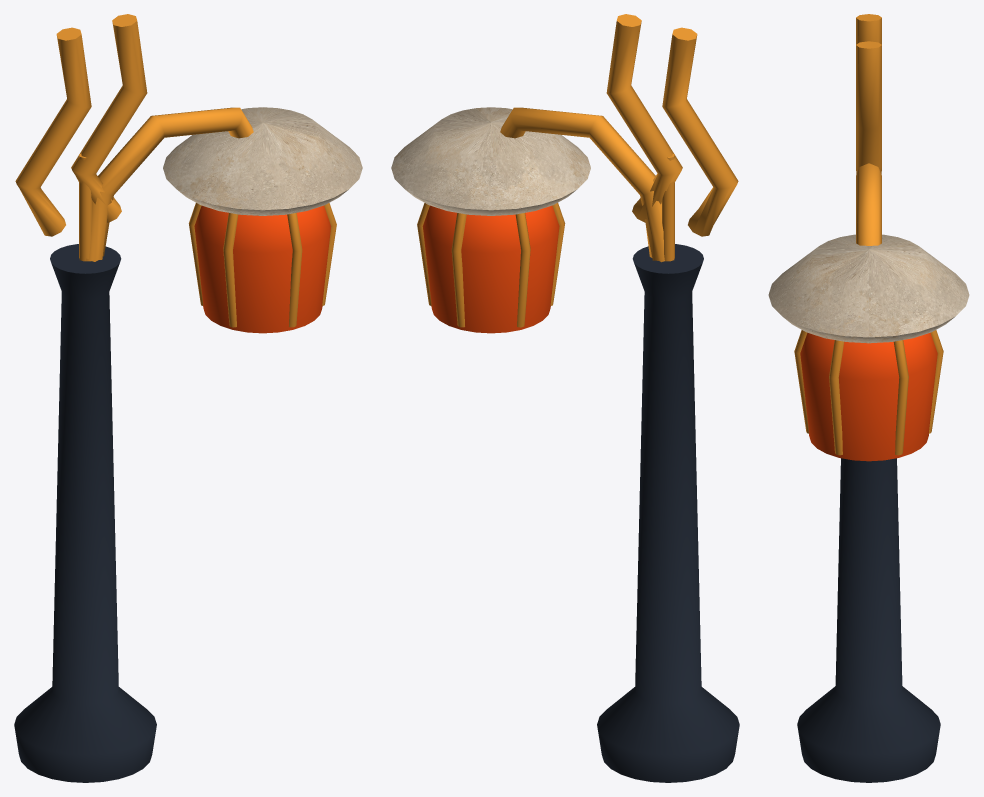
The model's file is 09_Farola_Curva.obj.
3 renders of one model, left to right at view 1: azimuth 30°, elevation 25°; view 2: azimuth 150°, elevation 25°; view 3: azimuth 270°, elevation 25°, orthographic.
Parts seen in each view (by area): view 1: Poste_y_brazo_curvo, Farol_Pivote_Z, Insignia; view 2: Poste_y_brazo_curvo, Farol_Pivote_Z, Insignia; view 3: Farol_Pivote_Z, Poste_y_brazo_curvo, Insignia.
Part boxes in pixels (bbox=[...]): Poste_y_brazo_curvo: bbox=[14, 107, 253, 782]; Farol_Pivote_Z: bbox=[163, 107, 362, 333]; Insignia: bbox=[15, 14, 147, 261]; Poste_y_brazo_curvo: bbox=[500, 107, 739, 782]; Farol_Pivote_Z: bbox=[391, 107, 590, 333]; Insignia: bbox=[606, 14, 738, 261]; Farol_Pivote_Z: bbox=[768, 234, 969, 461]; Poste_y_brazo_curvo: bbox=[797, 163, 940, 782]; Insignia: bbox=[856, 14, 881, 174].
Bounding box in the file's own units: 1.61 × 3.37 × 0.84.
